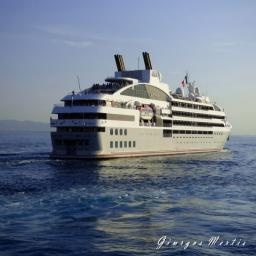cruises: (50, 52, 235, 163)
